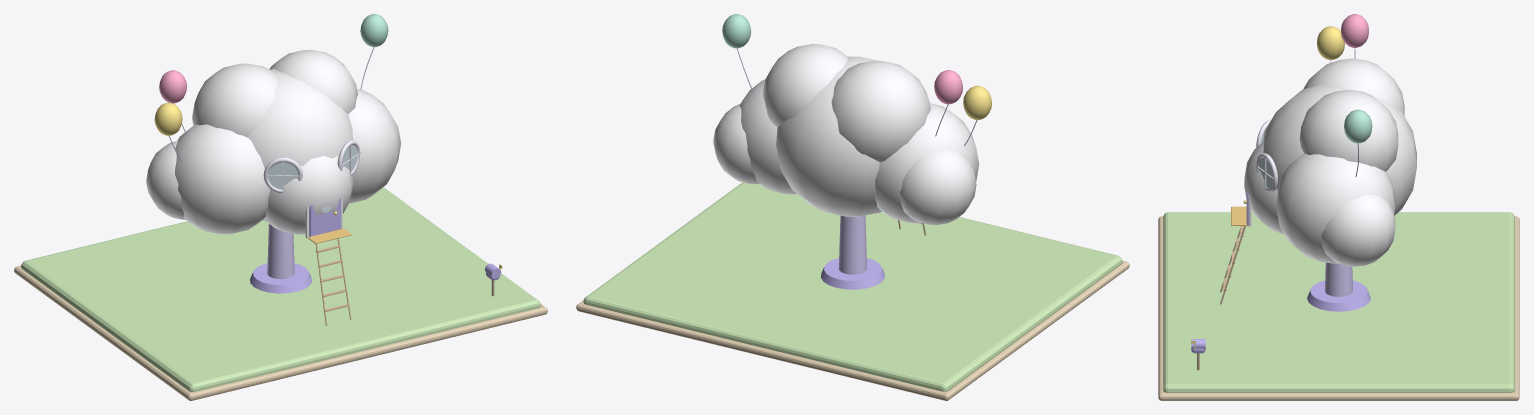
The model's file is building_sky_L06.glb.
The picture shows the model from 3 angles, left to right: view 1: azimuth 30°, elevation 25°; view 2: azimuth 150°, elevation 25°; view 3: azimuth 270°, elevation 25°; orthographic projection. The views are drawn at different scales.
Visible parts, largest first — view 1: sky_L6, Body; view 2: sky_L6, Body; view 3: sky_L6, Body.
Boxes of the visible parts, bbox=[...] form: sky_L6: bbox=[14, 187, 547, 400]; Body: bbox=[146, 14, 401, 325]; sky_L6: bbox=[576, 182, 1129, 400]; Body: bbox=[713, 14, 991, 289]; sky_L6: bbox=[1158, 212, 1519, 400]; Body: bbox=[1220, 14, 1416, 311].
Size of the model in its own units: 26.61 by 17.47 by 22.6.
